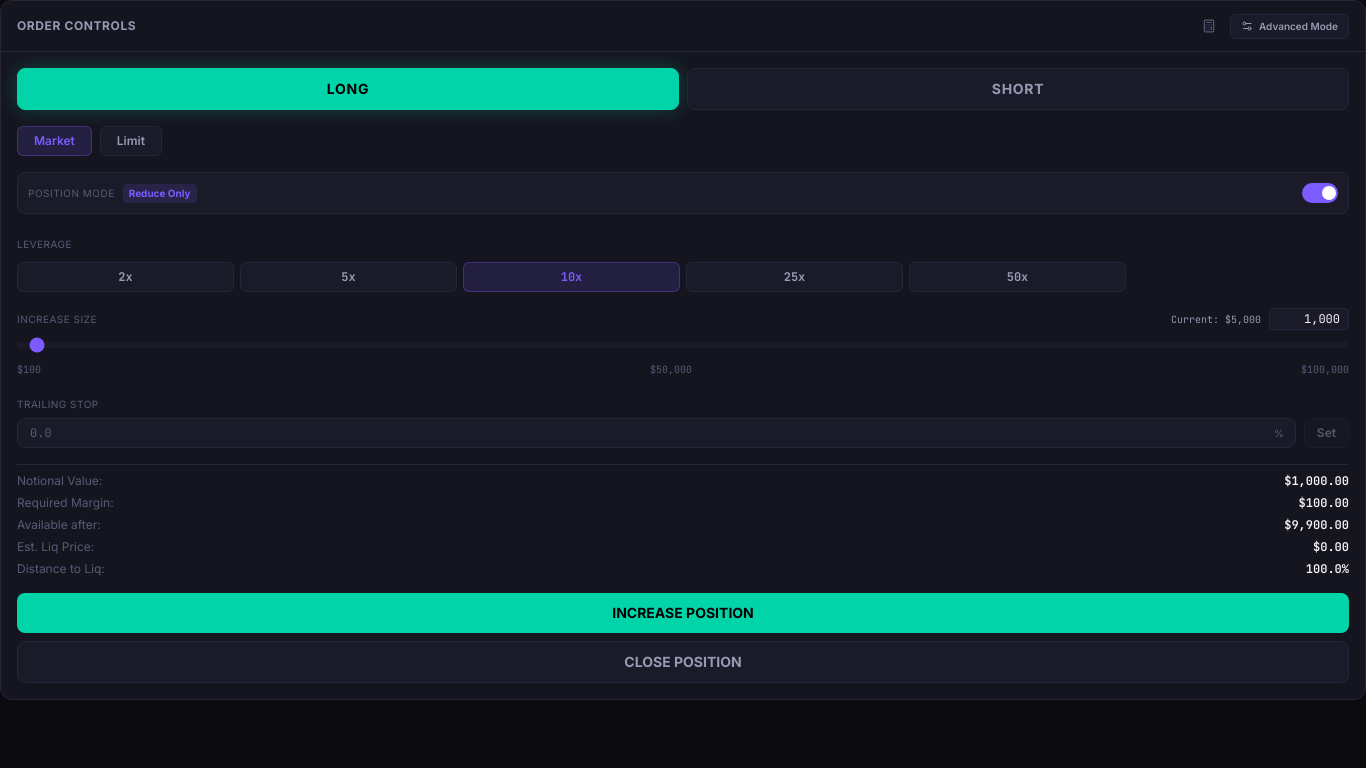
Test: TradeControls — slider and position labels › REDUCE label shows whenever side !== position.side
Click the button "SHORT": (1018, 89) 687,68 -> 1349,110
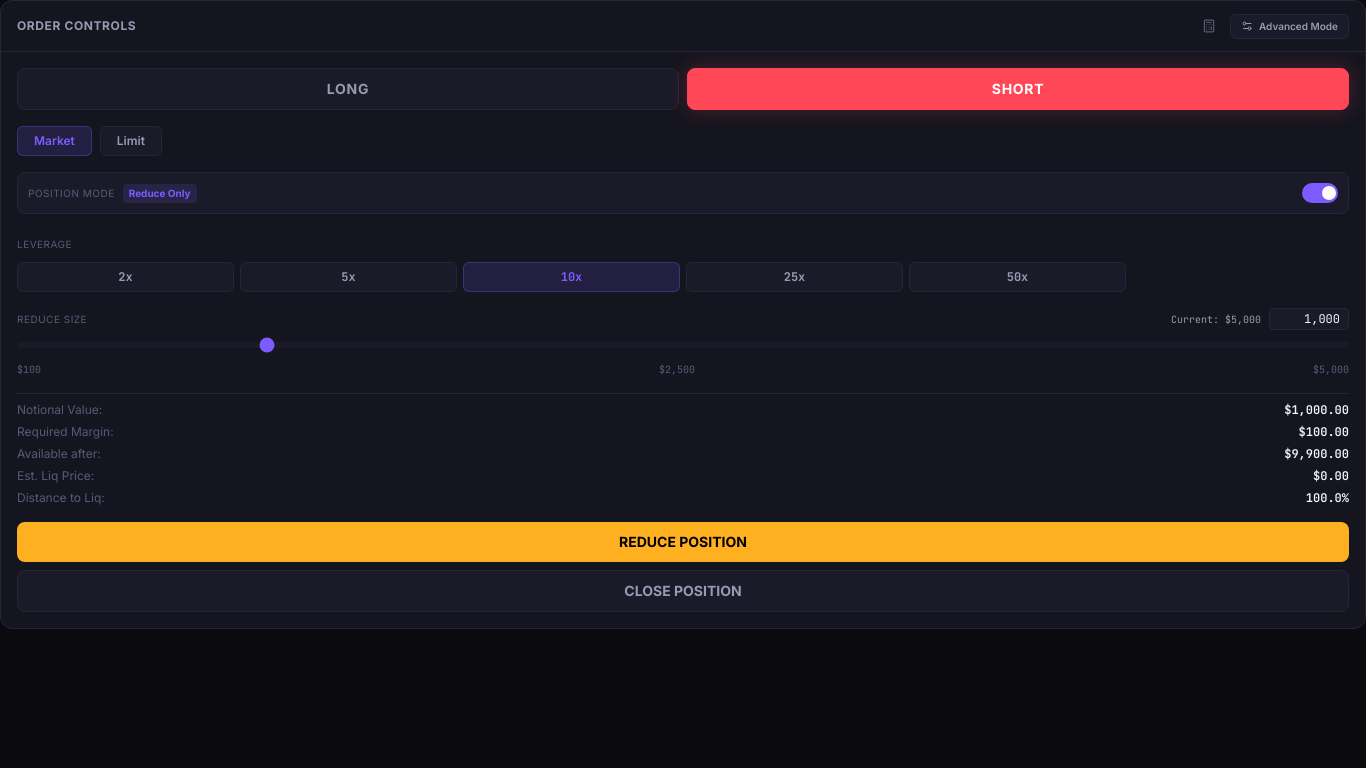
Now the button "REDUCE POSITION" is shown, box 17,522 -> 1349,562
Now the button "INCREASE POSITION" is gone
